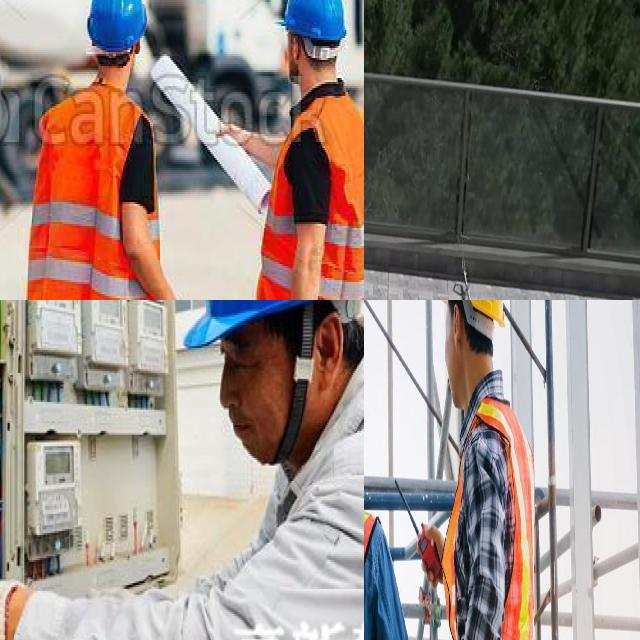No_Ear-Protection: (310, 312, 354, 389)
No_Glasses: (215, 336, 268, 373)
face_nomask: (221, 364, 293, 464), (440, 309, 474, 407)
head_helmet: (174, 300, 364, 359), (278, 0, 352, 46), (83, 0, 147, 52), (435, 300, 506, 330)
person: (423, 300, 543, 640), (47, 0, 171, 300), (251, 0, 364, 300), (364, 313, 417, 640), (0, 22, 20, 232)
vest: (28, 94, 170, 300), (255, 88, 364, 300), (442, 397, 537, 640)
